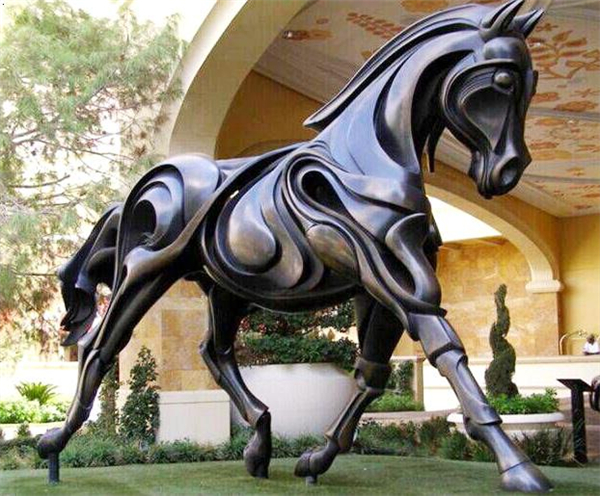background: (52, 1, 567, 487)
